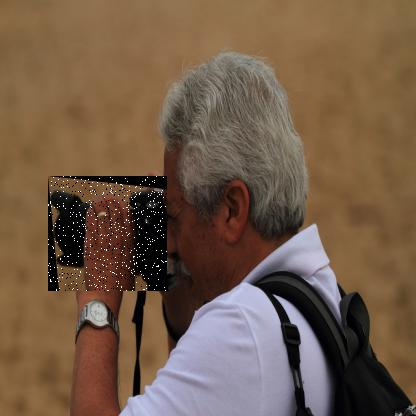Camera: (49, 177, 169, 293)
